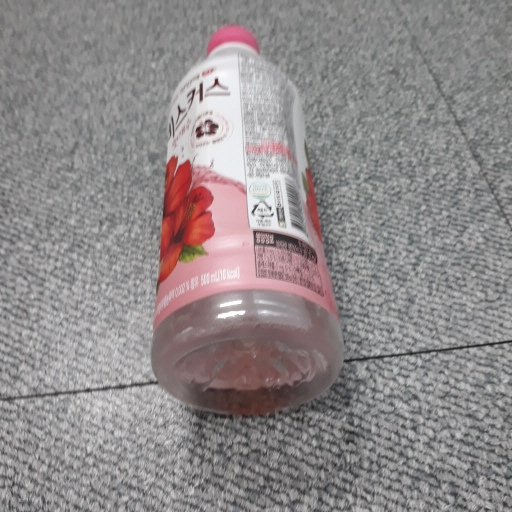Plastic_0: (150, 22, 345, 410)
